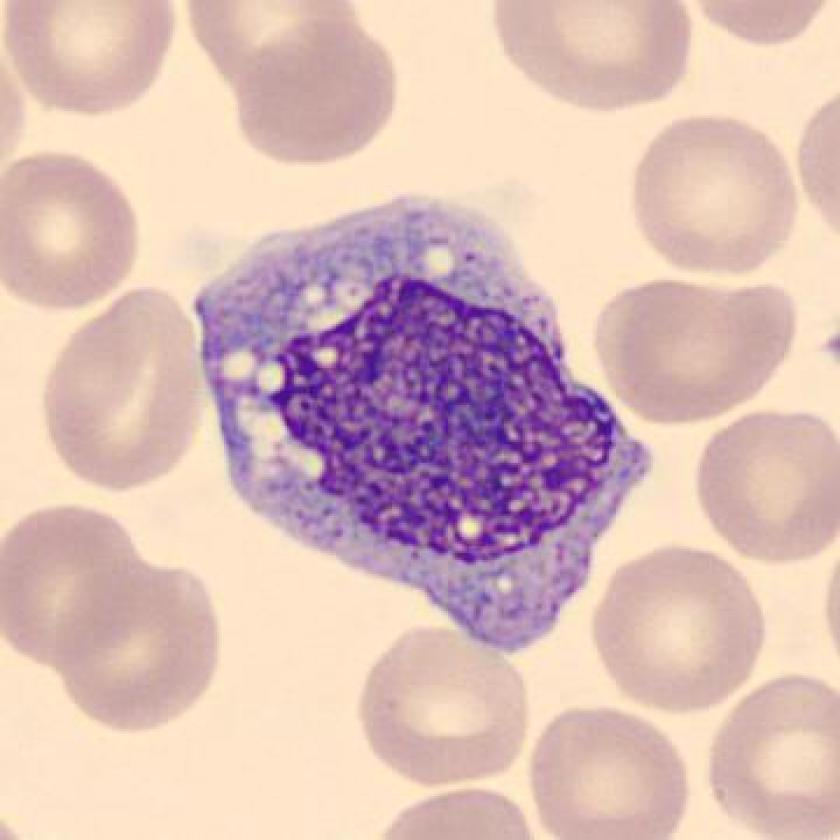monocyte: (174, 179, 666, 668)
